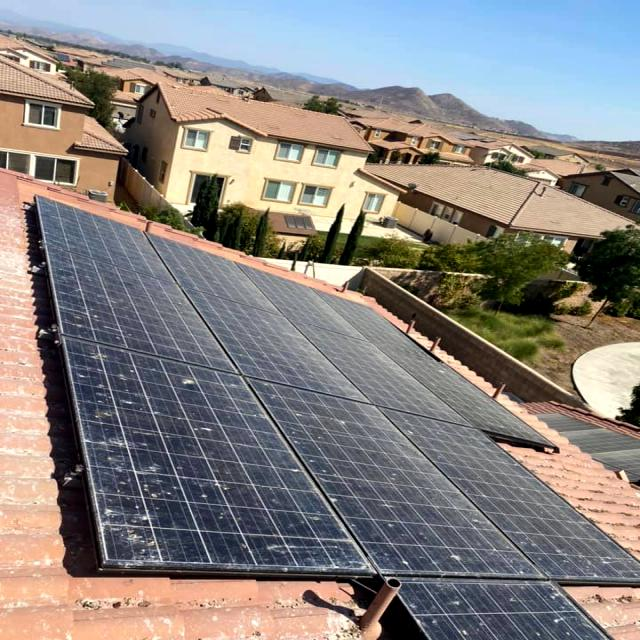bird: (163, 351, 232, 416), (100, 510, 180, 564), (94, 447, 162, 500), (289, 407, 351, 465), (316, 472, 392, 517), (398, 589, 466, 627), (262, 538, 354, 566), (77, 338, 121, 391), (552, 544, 612, 574), (438, 530, 471, 578), (187, 478, 236, 510), (537, 586, 567, 636), (168, 358, 201, 400), (388, 540, 416, 579), (186, 416, 221, 444), (423, 359, 449, 388)
